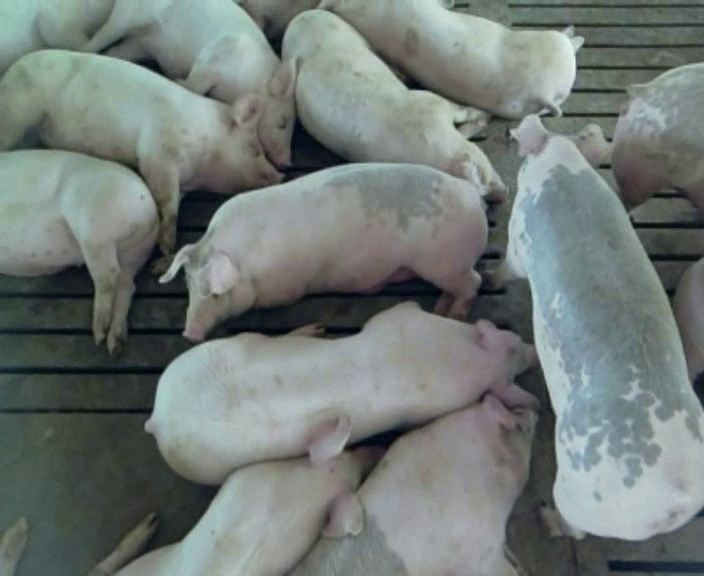pig: (490, 115, 703, 539), (145, 302, 535, 483), (160, 163, 486, 340), (88, 408, 381, 575), (291, 394, 535, 573), (282, 11, 505, 200), (82, 2, 294, 167), (321, 2, 583, 118), (612, 63, 703, 209), (0, 2, 113, 74), (674, 257, 703, 380), (239, 0, 318, 39)
